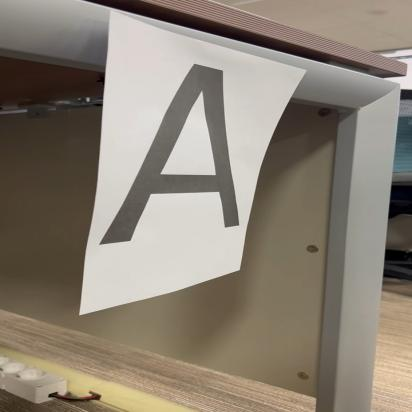seat: (96, 58, 246, 248)
